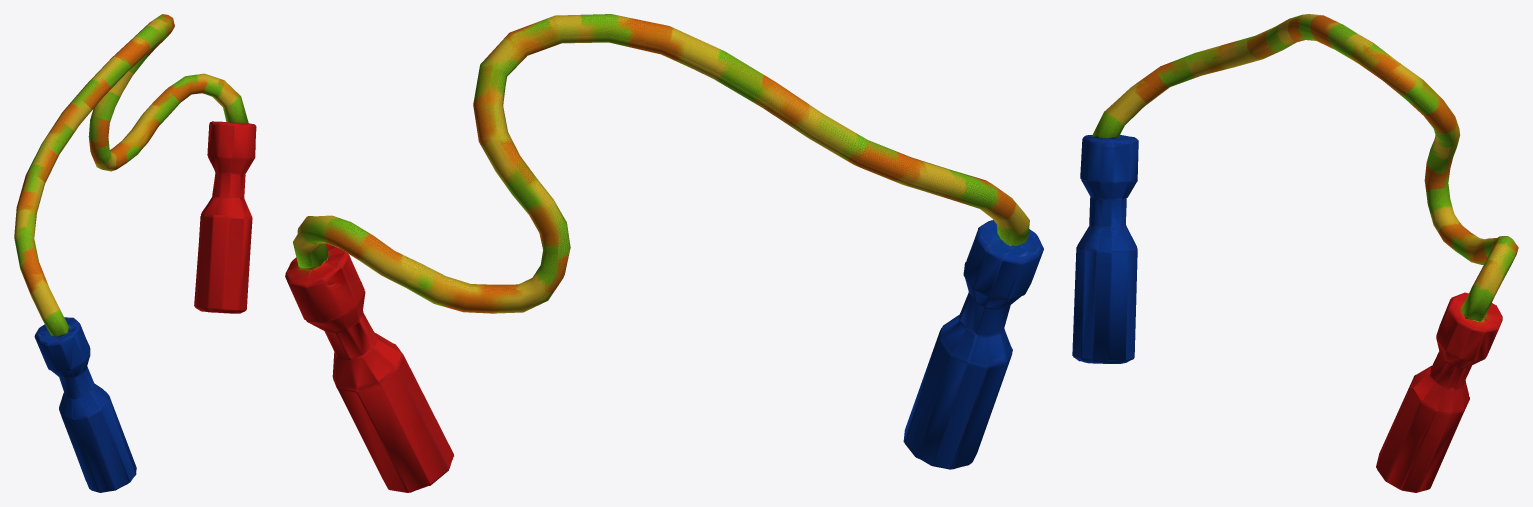
The model's file is 레벨1_줄넘기.glb.
3 views of the same model, side by side, from view 1: azimuth 30°, elevation 25°; view 2: azimuth 150°, elevation 25°; view 3: azimuth 270°, elevation 25° (orthographic). The views are drawn at different scales.
Parts seen in each view (by area): view 1: tripo_node_0c54c472-2398-4291-a424-17137268aed8; view 2: tripo_node_0c54c472-2398-4291-a424-17137268aed8; view 3: tripo_node_0c54c472-2398-4291-a424-17137268aed8.
Part boxes in pixels (x1,y1,x2,y2): tripo_node_0c54c472-2398-4291-a424-17137268aed8: (14,14,256,492); tripo_node_0c54c472-2398-4291-a424-17137268aed8: (285,14,1043,492); tripo_node_0c54c472-2398-4291-a424-17137268aed8: (1072,14,1518,492).
Bounding box in the file's own units: 0.998 × 0.9083 × 0.8808.
Materials: 1 (1 with a texture image).
